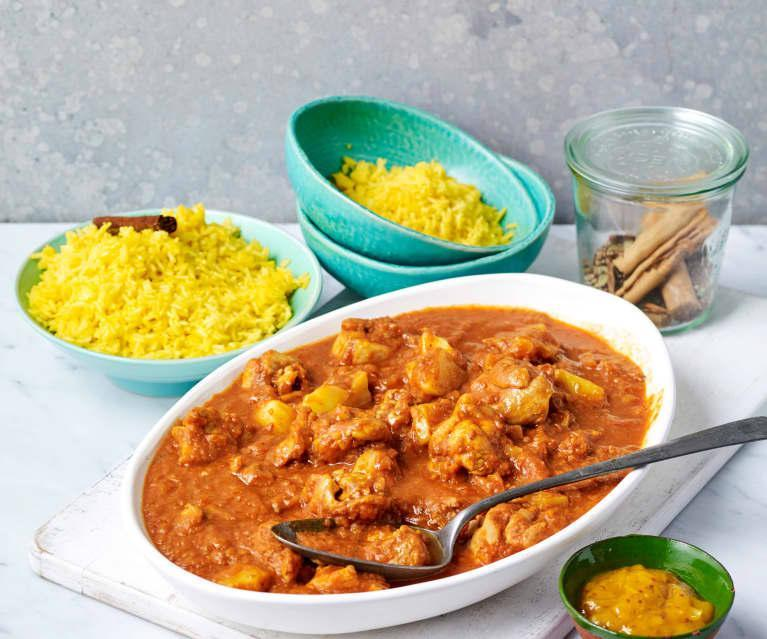chicken: (172, 337, 682, 578)
rice: (30, 213, 288, 348), (343, 146, 522, 263)
